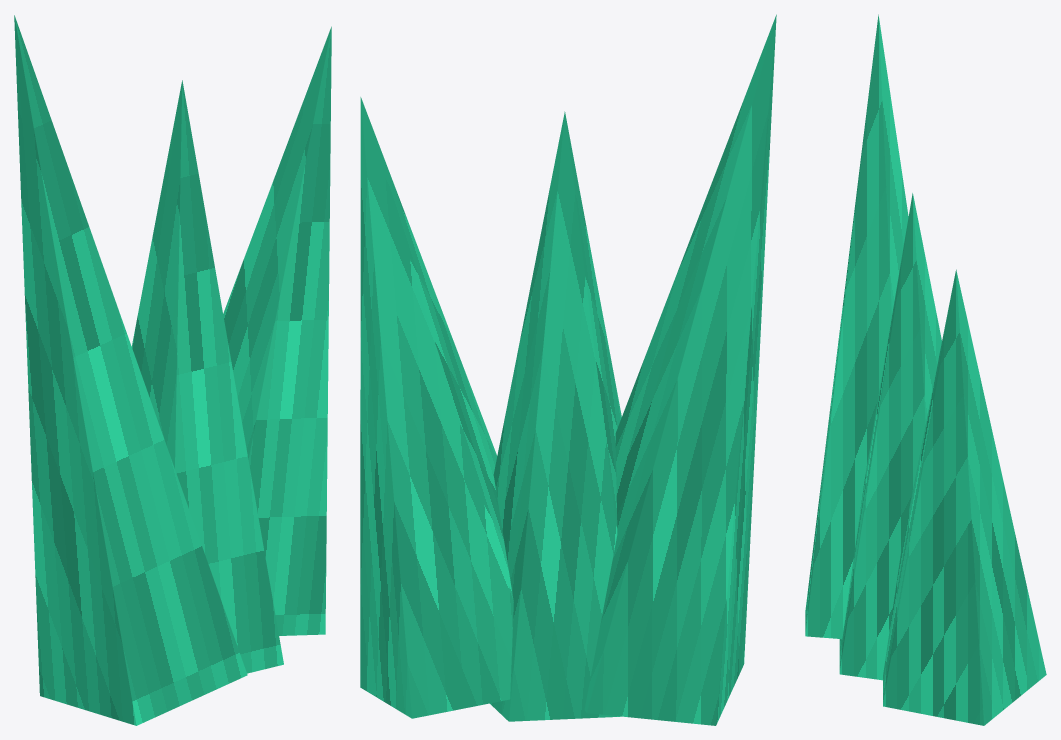
The model's file is crystal_52.glb.
3 views of the same model, side by side, from view 1: azimuth 30°, elevation 25°; view 2: azimuth 150°, elevation 25°; view 3: azimuth 270°, elevation 25° (orthographic). The views are drawn at different scales.
Visible parts, largest first — view 1: Jade, Jade.002, Jade.001; view 2: Jade, Jade.002, Jade.001; view 3: Jade.002, Jade, Jade.001.
Part boxes in pixels (<box>): Jade: <box>14,15,247,725</box>; Jade.002: <box>223,26,331,635</box>; Jade.001: <box>131,80,283,673</box>; Jade: <box>584,14,776,725</box>; Jade.002: <box>360,97,513,718</box>; Jade.001: <box>490,111,621,721</box>; Jade.002: <box>883,269,1046,725</box>; Jade: <box>805,14,908,638</box>; Jade.001: <box>839,193,941,680</box>.
Size of the model in its own units: 0.8334 by 1.54 by 0.5868.
1 material, 1 textured.
